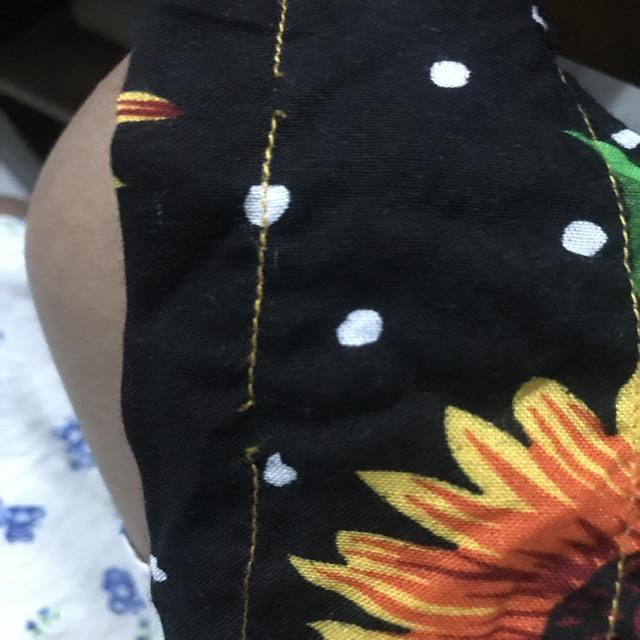broken: (253, 54, 305, 133), (220, 380, 270, 462)
good: (234, 257, 277, 339)
